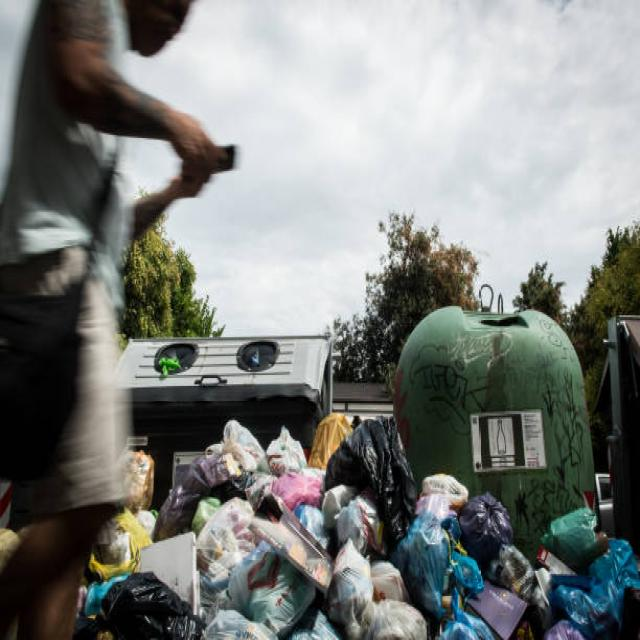trash: (119, 400, 612, 623)
